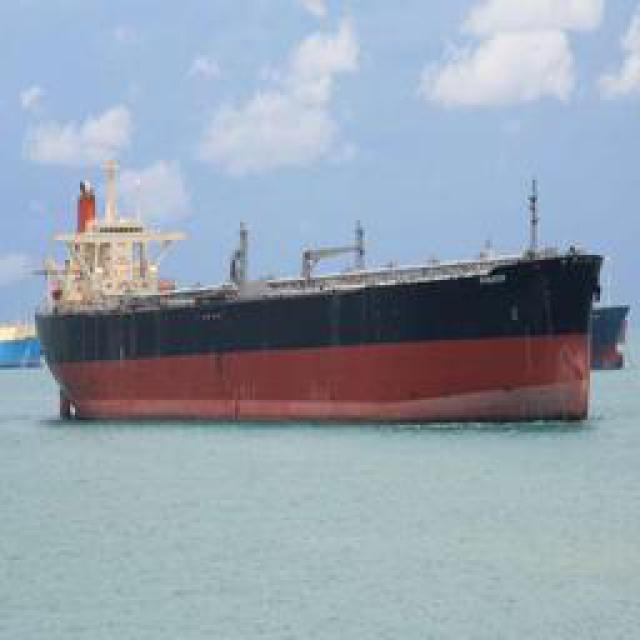Ship: (30, 189, 605, 429)
